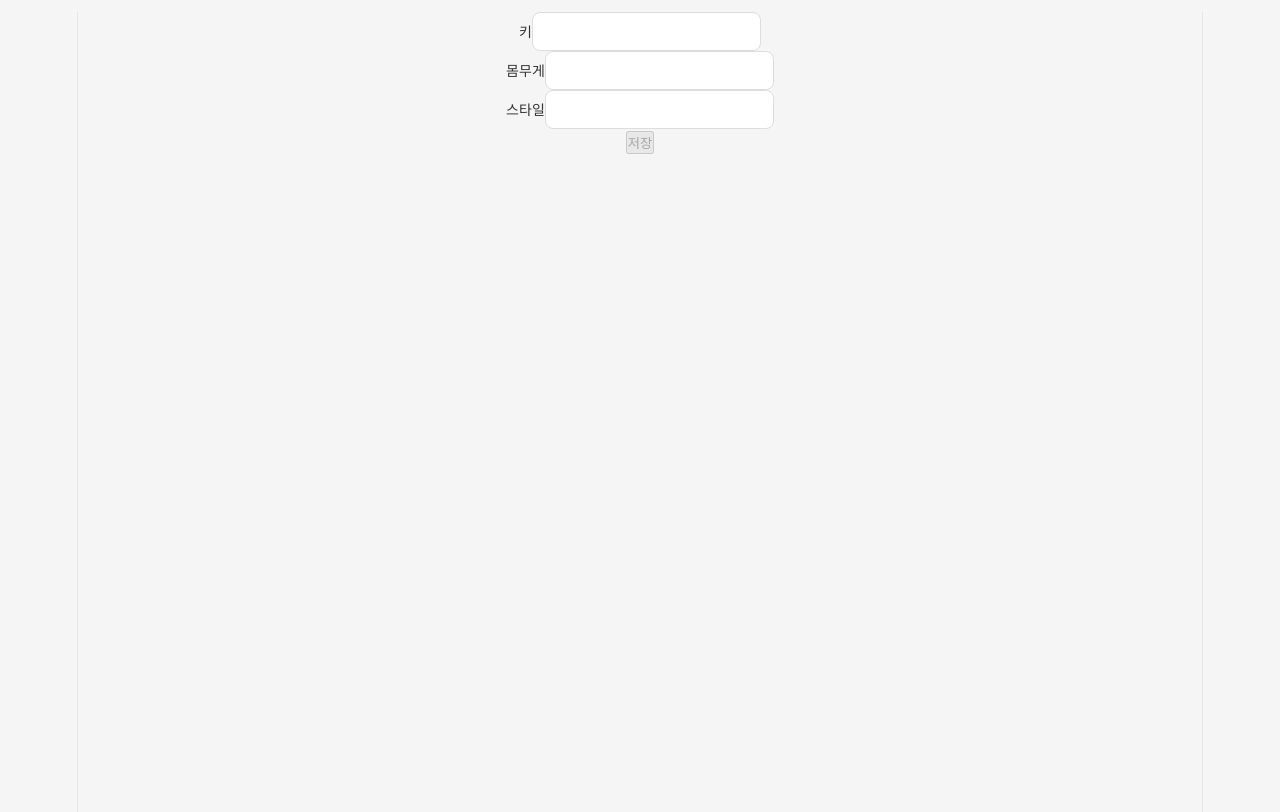
it: UserProfileForm › TC-17: 키가 300cm이면 오류 메시지를 표시한다
Type "300" into the number field labelled "키" at (646,32), box [532,12,761,51]
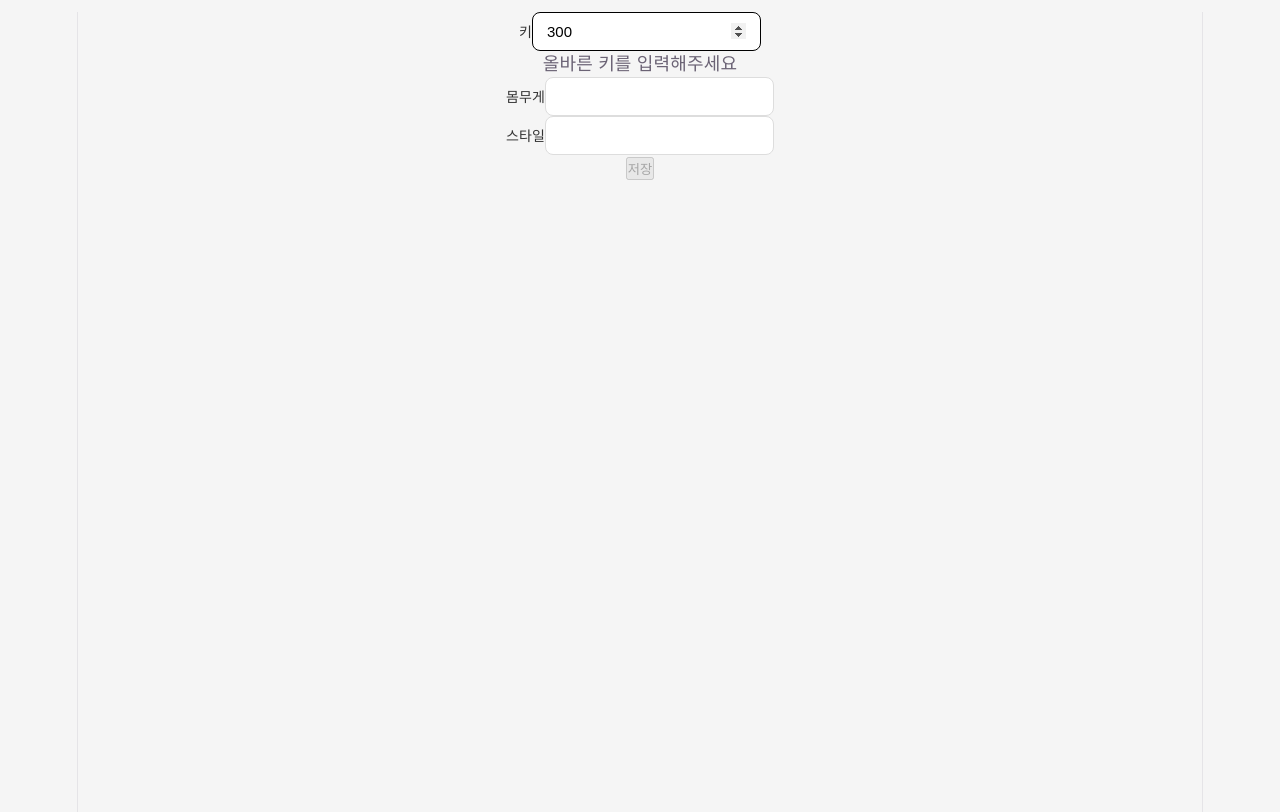
expect the text "올바른 키를 입력해주세요" is shown: met, box [543,54,737,74]
